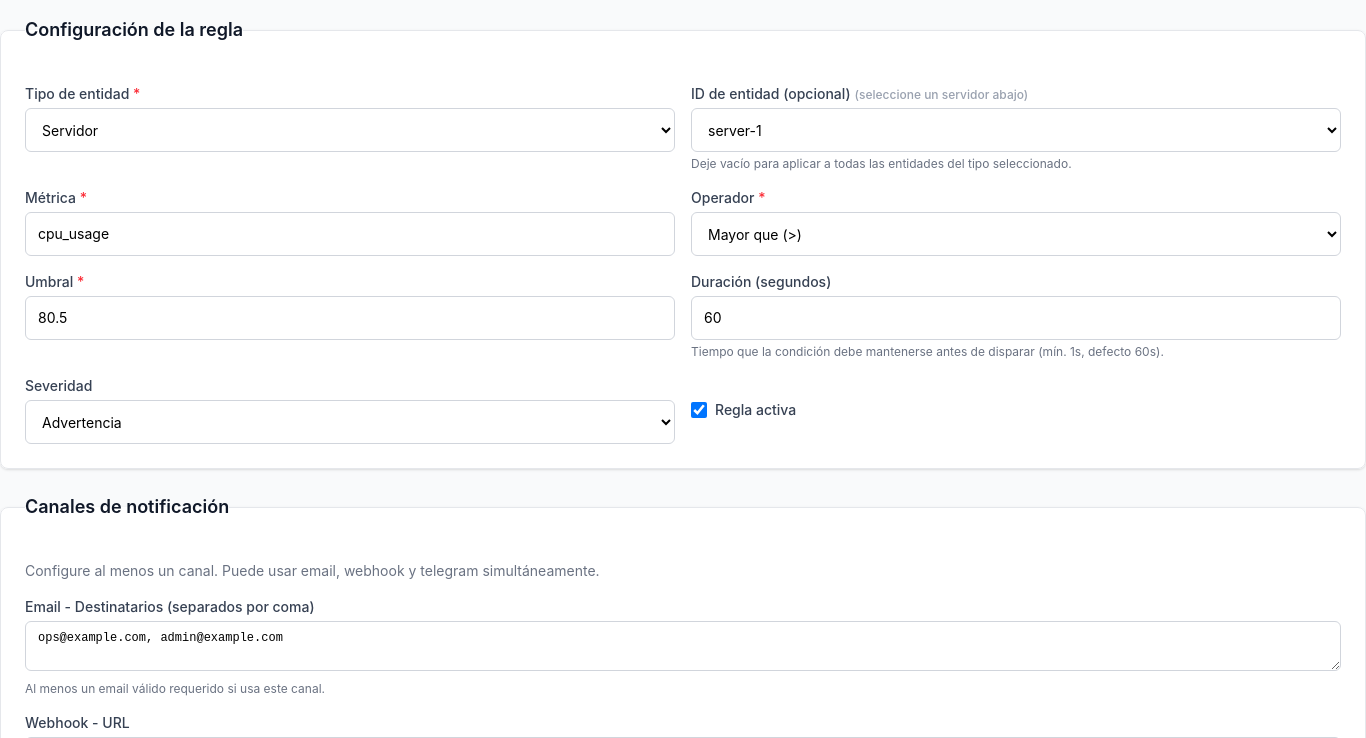
Test: EditRuleForm › validates threshold as number
Clear the number field labelled "Umbral *" at (350,318), box [25,296,675,340]
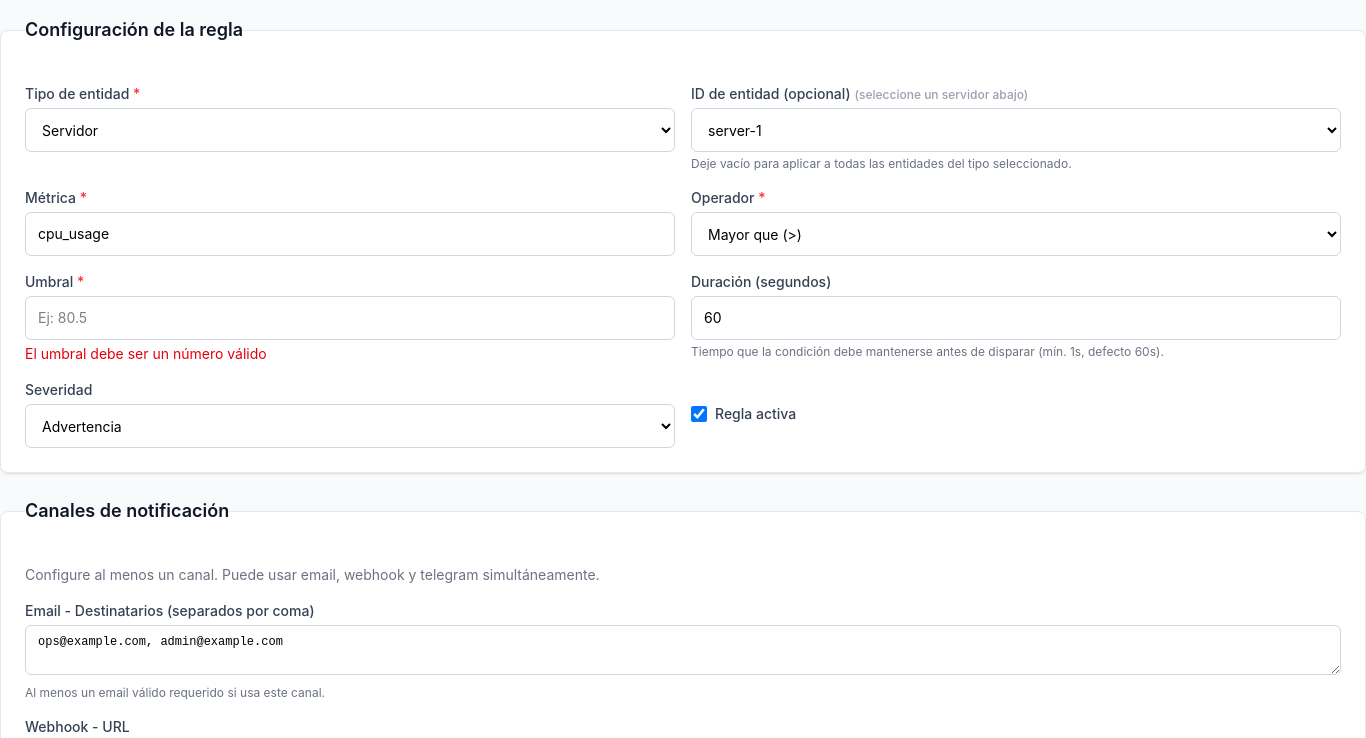
Now the text "El umbral debe ser un número válido" is shown, box [25,345,267,362]
